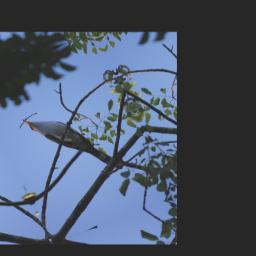Cuckoo: (20, 97, 112, 186)
